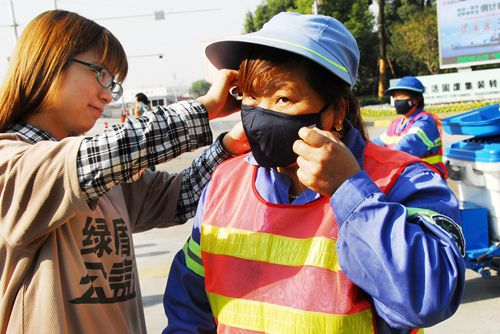face: (51, 49, 118, 132)
face_mask: (239, 58, 322, 171), (393, 92, 411, 113)
